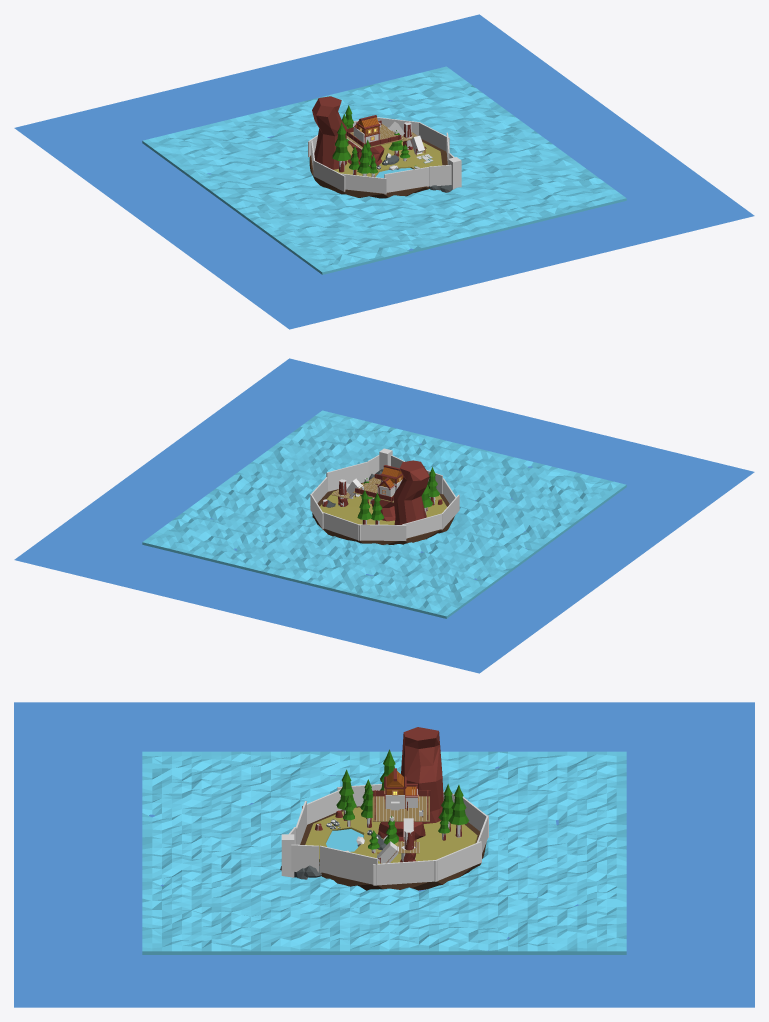
The model's file is world.glb.
3 views of the same model, one above another, from view 1: azimuth 30°, elevation 25°; view 2: azimuth 150°, elevation 25°; view 3: azimuth 270°, elevation 25° (orthographic). The views are drawn at different scales.
Visible parts, largest first — view 1: WATER_HORIZON, WATER_OCEAN, SHADOW_Cylinder.029, Land_01, COL_BOX_WORLD_BOUNDRY_01.007, Land_02, COL_BOX_WORLD_BOUNDRY_01.006, COL_BOX_WORLD_BOUNDRY_01.005; view 2: WATER_HORIZON, WATER_OCEAN, SHADOW_Cylinder.029, Land_01, Land_02, COL_BOX_WORLD_BOUNDRY_01.003, COL_BOX_WORLD_BOUNDRY_01.008, COL_BOX_WORLD_BOUNDRY_01.002, COL_BOX_WORLD_BOUNDRY_01.004; view 3: WATER_HORIZON, WATER_OCEAN, Land_01, SHADOW_Cylinder.029, COL_BOX_WORLD_BOUNDRY_01.008, COL_BOX_WORLD_BOUNDRY_01, Land_02, COL_BOX_WORLD_BOUNDRY_01.001, SHADOW_Cube.004, COL_BOX_WORLD_BOUNDRY_01.006, COL_BOX_WORLD_BOUNDRY_01.010, Plane.002 (+2 smaller).
Part boxes in pixels (x1,y1,x2,y2): WATER_HORIZON: [14, 14, 754, 329]; WATER_OCEAN: [142, 66, 626, 274]; SHADOW_Cylinder.029: [312, 96, 346, 169]; Land_01: [333, 141, 442, 177]; COL_BOX_WORLD_BOUNDRY_01.007: [384, 167, 429, 192]; Land_02: [309, 139, 447, 198]; COL_BOX_WORLD_BOUNDRY_01.006: [339, 173, 386, 194]; COL_BOX_WORLD_BOUNDRY_01.005: [313, 160, 345, 191]; WATER_HORIZON: [14, 358, 754, 673]; WATER_OCEAN: [142, 410, 626, 618]; SHADOW_Cylinder.029: [393, 460, 429, 524]; Land_01: [320, 483, 446, 524]; Land_02: [312, 482, 454, 544]; COL_BOX_WORLD_BOUNDRY_01.003: [358, 524, 406, 540]; COL_BOX_WORLD_BOUNDRY_01.008: [326, 461, 368, 491]; COL_BOX_WORLD_BOUNDRY_01.002: [323, 512, 360, 540]; COL_BOX_WORLD_BOUNDRY_01.004: [402, 513, 442, 538]; WATER_HORIZON: [14, 702, 754, 1007]; WATER_OCEAN: [142, 751, 626, 954]; Land_01: [305, 807, 477, 863]; SHADOW_Cylinder.029: [401, 727, 443, 823]; COL_BOX_WORLD_BOUNDRY_01.008: [319, 845, 377, 885]; COL_BOX_WORLD_BOUNDRY_01: [373, 860, 437, 885]; Land_02: [300, 806, 486, 890]; COL_BOX_WORLD_BOUNDRY_01.001: [434, 841, 481, 881]; SHADOW_Cube.004: [372, 796, 429, 821]; COL_BOX_WORLD_BOUNDRY_01.006: [302, 789, 341, 824]; COL_BOX_WORLD_BOUNDRY_01.010: [291, 844, 318, 872]; Plane.002: [326, 829, 363, 851].
Size of the model in its own units: 812 by 181 by 832.
18 materials, 3 textured.
